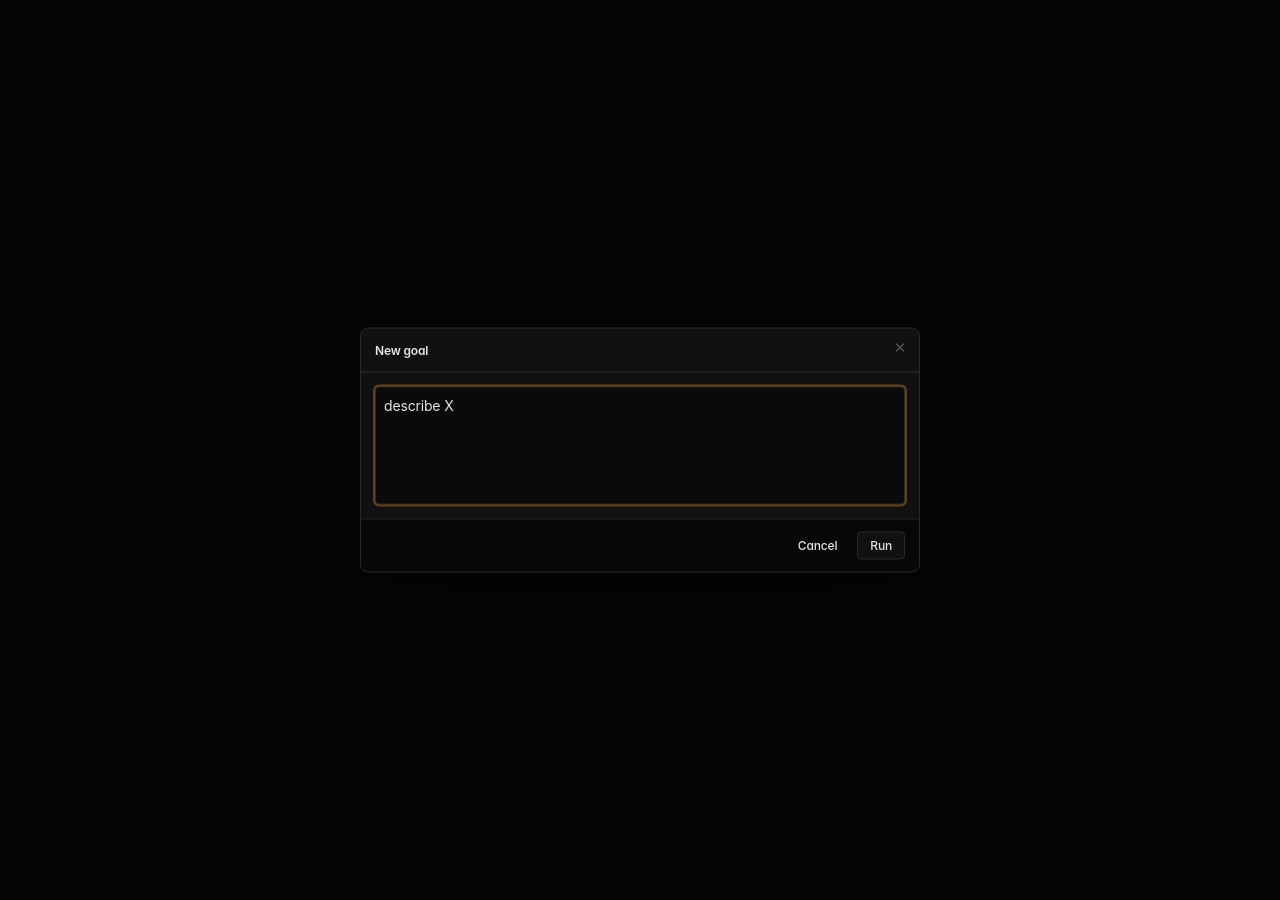
NewGoalModal › NewGoalModal_shows_generic_error_for_unknown_spawn_failure
The image size is (1280, 900).
Click the button with test id "new-goal-run" at (881,546), box [857,532,905,560]
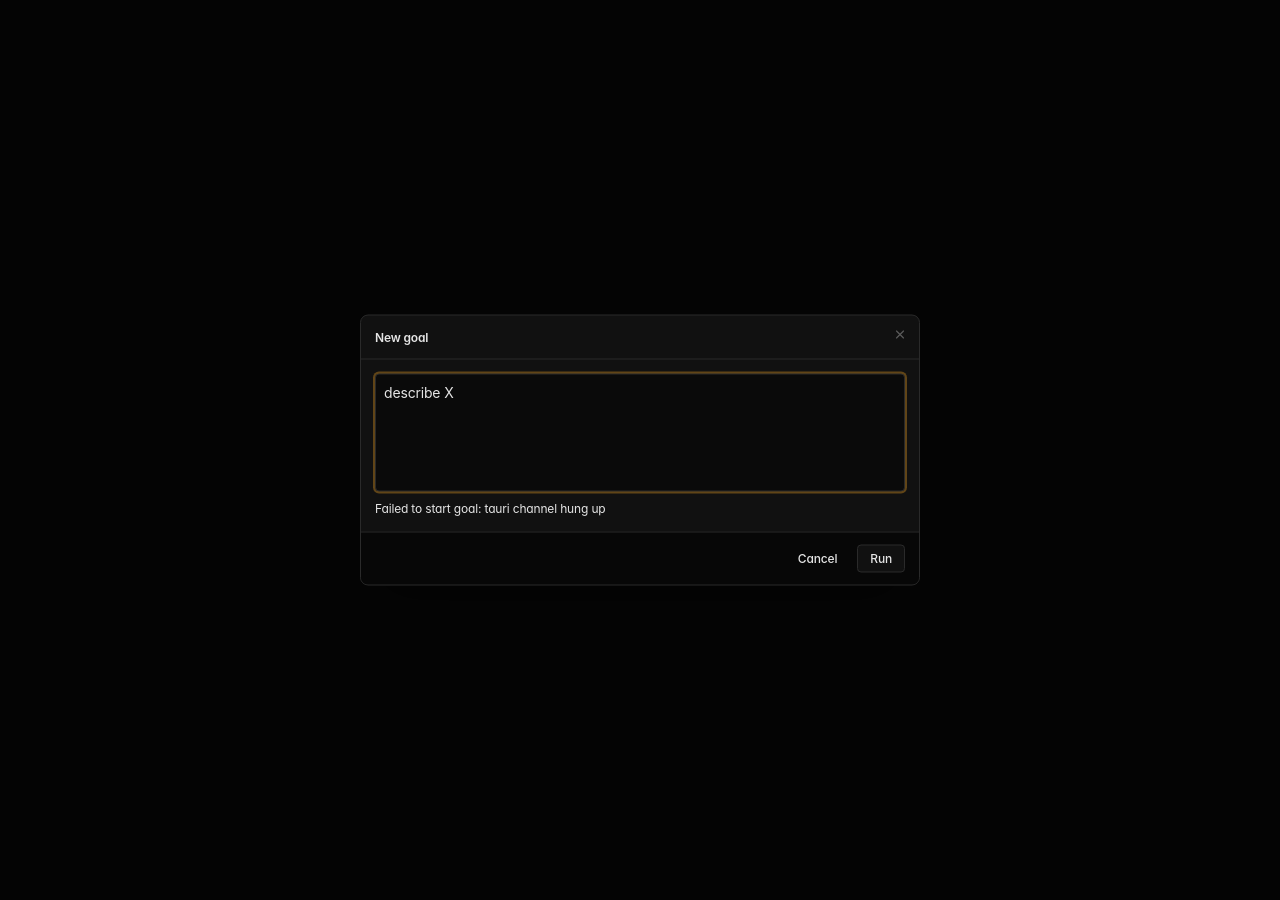
Result: the message with test id "new-goal-spawn-error" reads "Failed to start goal: tauri channel hung up" at [375,500,606,516]
